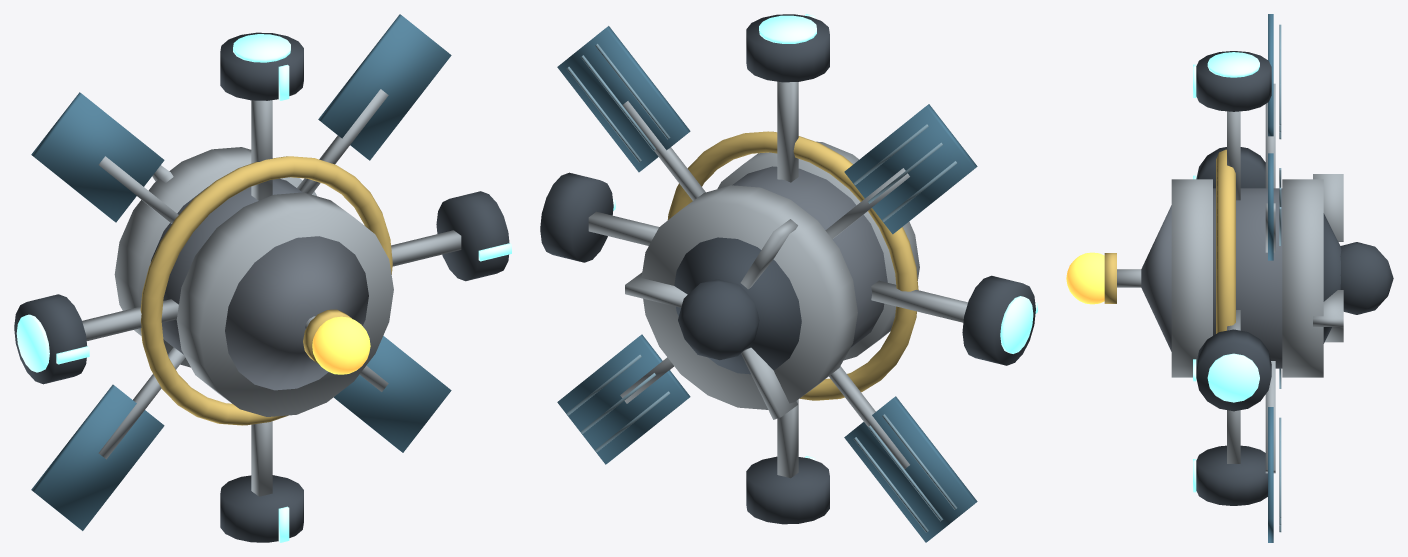
Rendered from message_buoy.gltf.
3 views of the same model, side by side, from view 1: azimuth 30°, elevation 25°; view 2: azimuth 150°, elevation 25°; view 3: azimuth 270°, elevation 25° (orthographic). The views are drawn at different scales.
Visible parts, largest first — view 1: Upper_Armor, Top_Cap, Broadcast_Ring, Solar_Panel_0, Solar_Panel_2, Solar_Panel_1, Lower_Armor, Solar_Panel_3, Antenna_Pod_0, Antenna_Pod_3, Antenna_Pod_2, Antenna_Pod_1 (+12 smaller); view 2: Lower_Armor, Broadcast_Ring, Solar_Panel_1, Lower_Cap, Solar_Panel_3, Solar_Panel_2, Solar_Panel_0, Core_Capsule, Service_Node, Antenna_Pod_0, Antenna_Pod_3, Antenna_Pod_2 (+15 smaller); view 3: Lower_Armor, Upper_Armor, Core_Capsule, Antenna_Pod_3, Broadcast_Ring, Service_Node, Antenna_Pod_0, Antenna_Pod_1, Top_Cap, Emitter_Face_0, Beacon, Antenna_Pod_2 (+13 smaller).
Boxes of the visible parts, x1,y1,x2,y2 form: Upper_Armor: (176,192,393,416); Top_Cap: (225,236,368,390); Broadcast_Ring: (140,156,392,425); Solar_Panel_0: (318,14,451,160); Solar_Panel_2: (31,384,164,530); Solar_Panel_1: (31,92,164,222); Lower_Armor: (114,147,316,367); Solar_Panel_3: (333,336,451,452); Antenna_Pod_0: (436,191,509,281); Antenna_Pod_3: (220,475,303,542); Antenna_Pod_2: (14,294,86,384); Antenna_Pod_1: (220,32,303,100); Lower_Armor: (641,185,857,409); Broadcast_Ring: (667,131,918,400); Solar_Panel_1: (844,104,977,234); Lower_Cap: (674,237,801,374); Solar_Panel_3: (557,334,690,464); Solar_Panel_2: (844,396,977,542); Solar_Panel_0: (557,26,690,172); Core_Capsule: (732,166,887,348); Service_Node: (678,279,759,360); Antenna_Pod_0: (540,172,613,262); Antenna_Pod_3: (746,456,829,524); Antenna_Pod_2: (962,275,1035,365); Lower_Armor: (1282,179,1323,377); Upper_Armor: (1171,179,1212,377); Core_Capsule: (1213,188,1282,368); Antenna_Pod_3: (1196,445,1267,505); Broadcast_Ring: (1216,149,1235,333); Service_Node: (1340,242,1393,314); Antenna_Pod_0: (1196,329,1271,411); Antenna_Pod_1: (1196,51,1271,111); Top_Cap: (1141,205,1171,351); Emitter_Face_0: (1207,353,1259,402); Beacon: (1066,252,1104,304); Antenna_Pod_2: (1196,147,1265,188).
Size of the model in its own units: 6.18 by 6.18 by 4.26.
